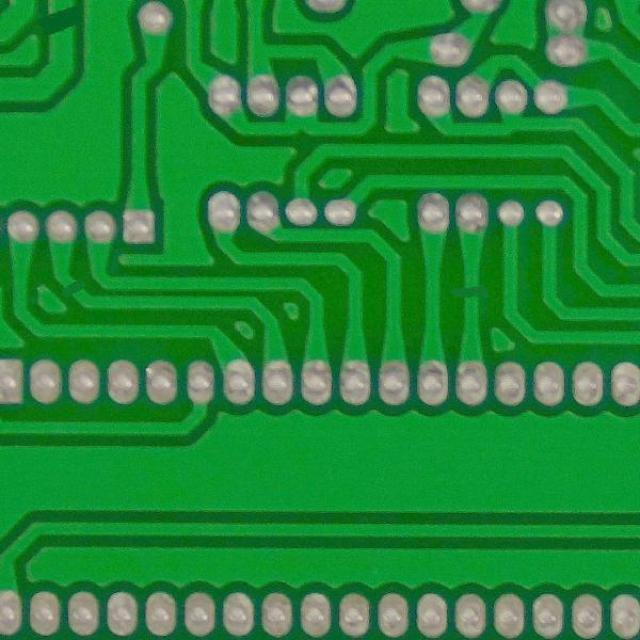Open_Circuit: (40, 2, 85, 42), (448, 275, 492, 313), (56, 273, 90, 302)
